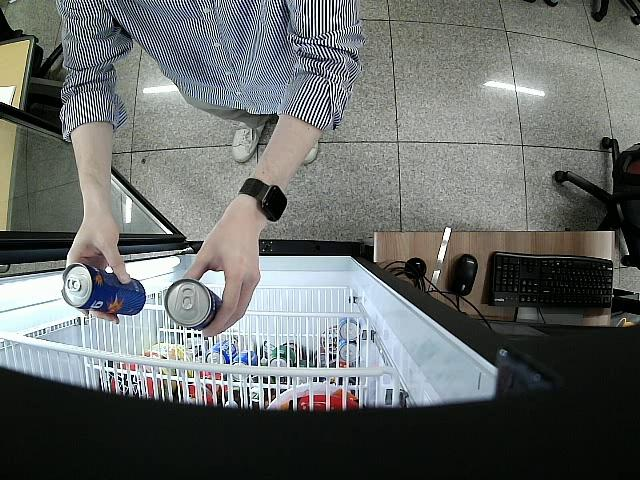00_hand: (181, 227, 261, 338), (65, 218, 132, 324)
16_hot6: (61, 262, 146, 316), (165, 278, 223, 329)
